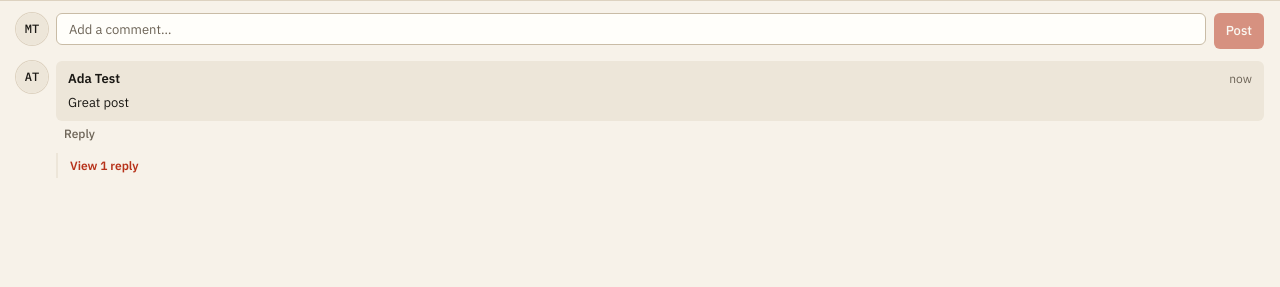
Test: Comments replies › shows a reply count, expands the thread and shows @mentions
Step 1. Click the button "View 1 reply" → (104, 166), box [70,157,139,175]
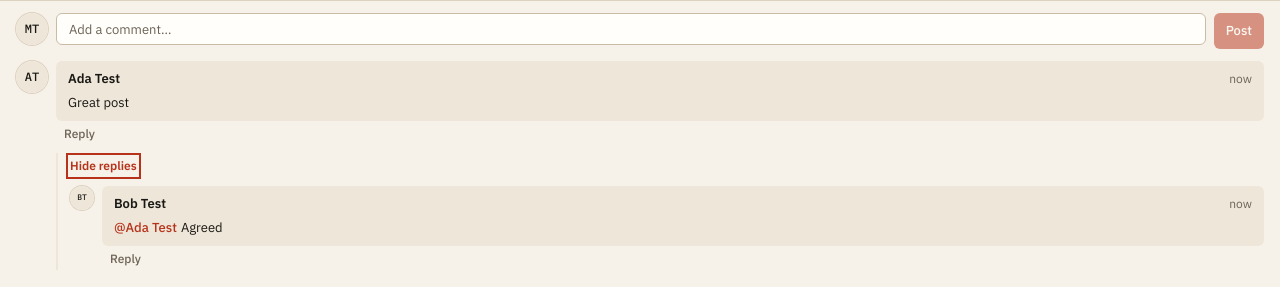
expect the text "Agreed" is shown: met, box [181,219,223,236]
expect the link "@Ada Test" is shown: met, box [114,219,177,236]
expect the button "Hide replies" is expanded: met, box [70,157,137,175]
